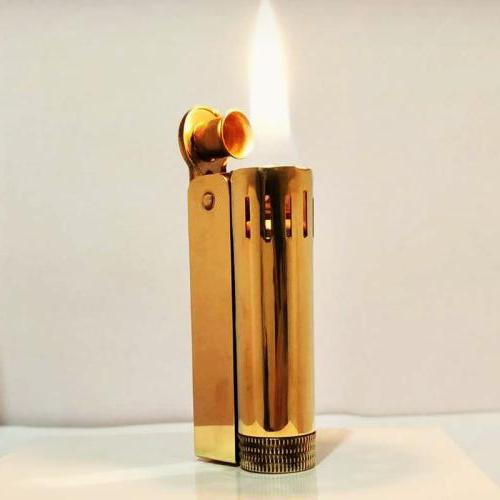fire: (234, 1, 308, 184)
